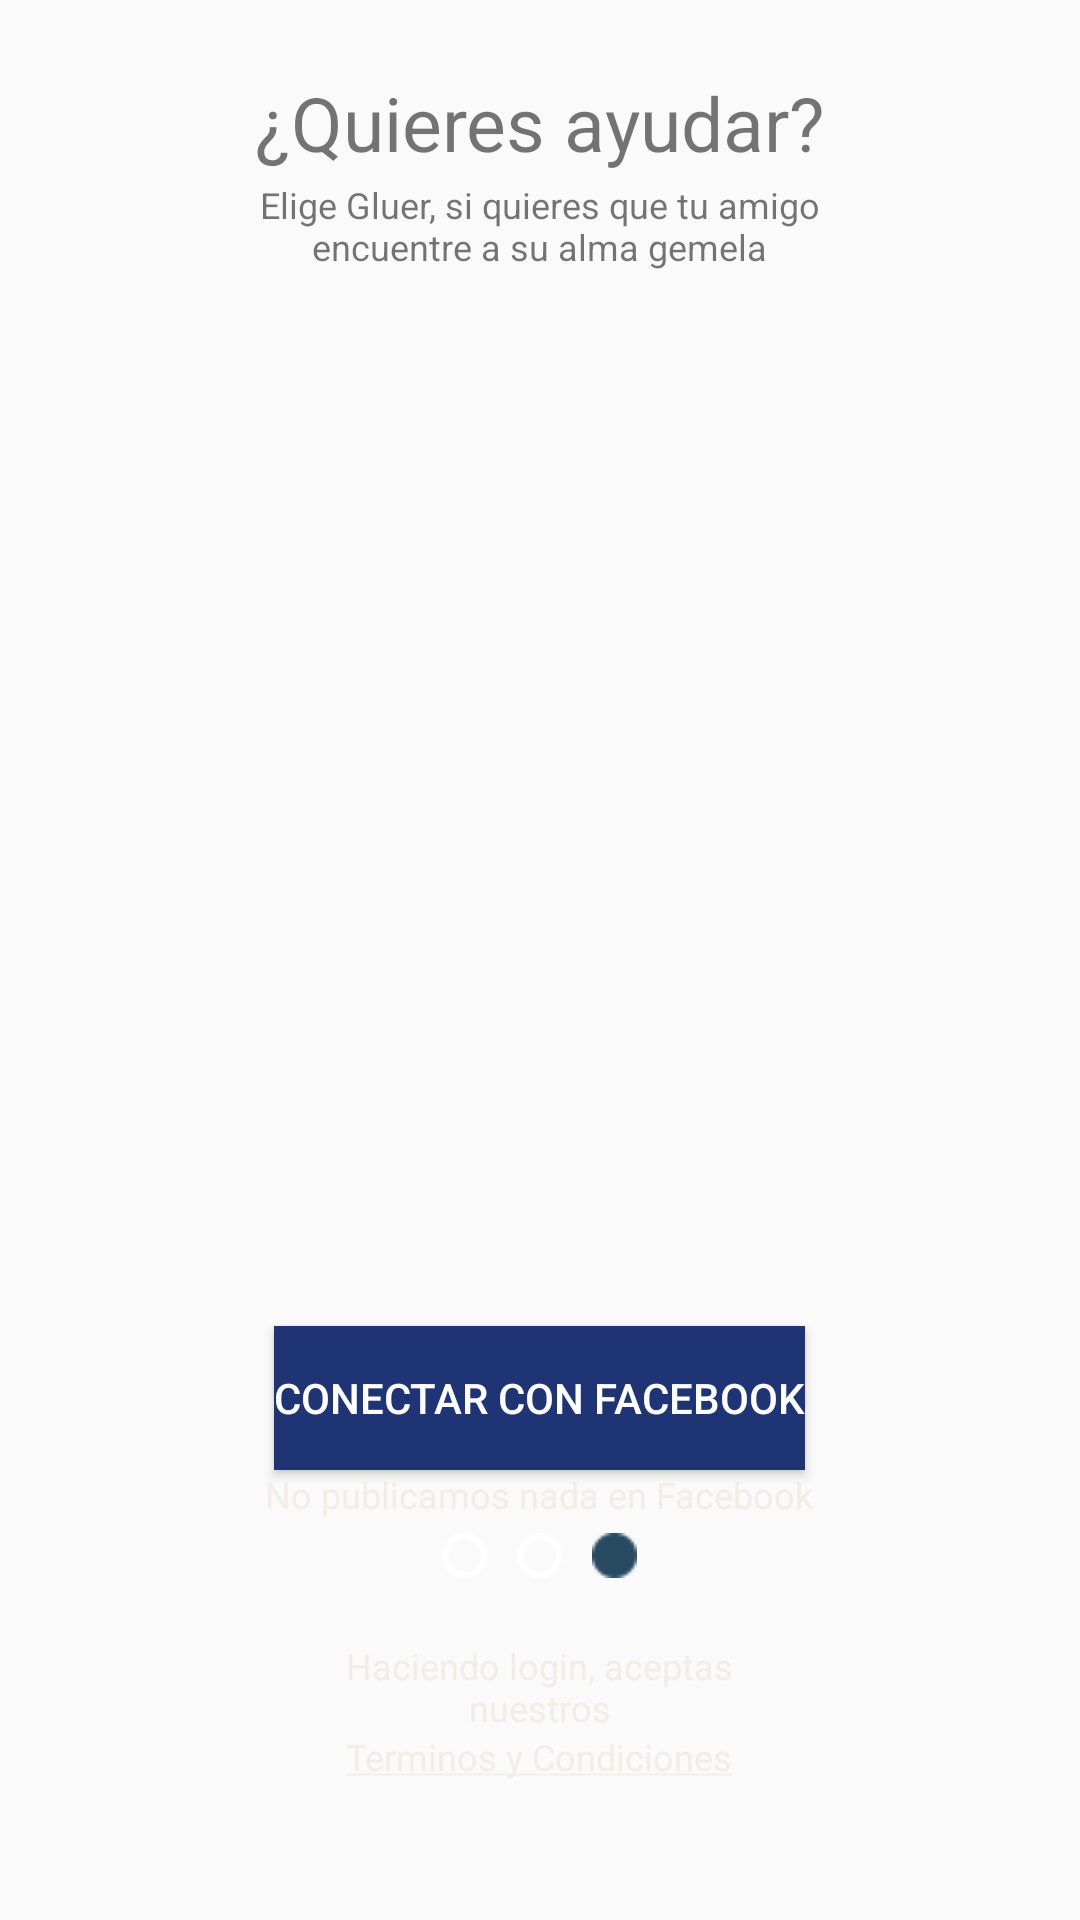

Screen size 1080x1920. Icon name, then its center in pixels as [x,y]:
punto: [614,1555]
